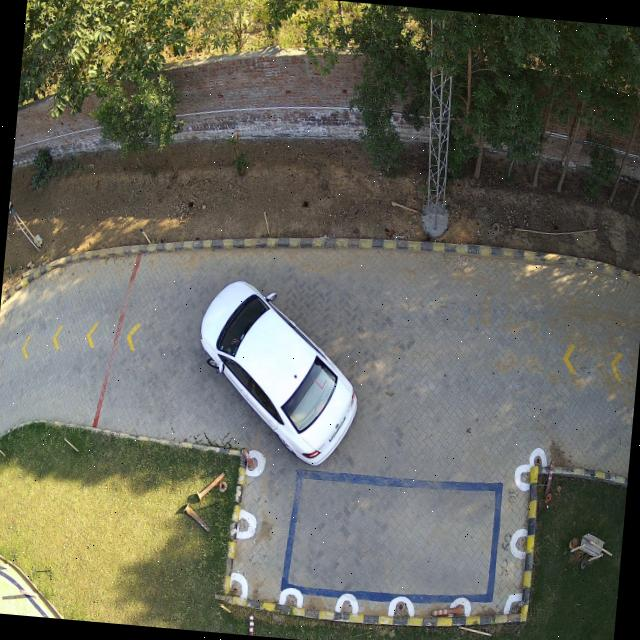car: (198, 281, 357, 468)
